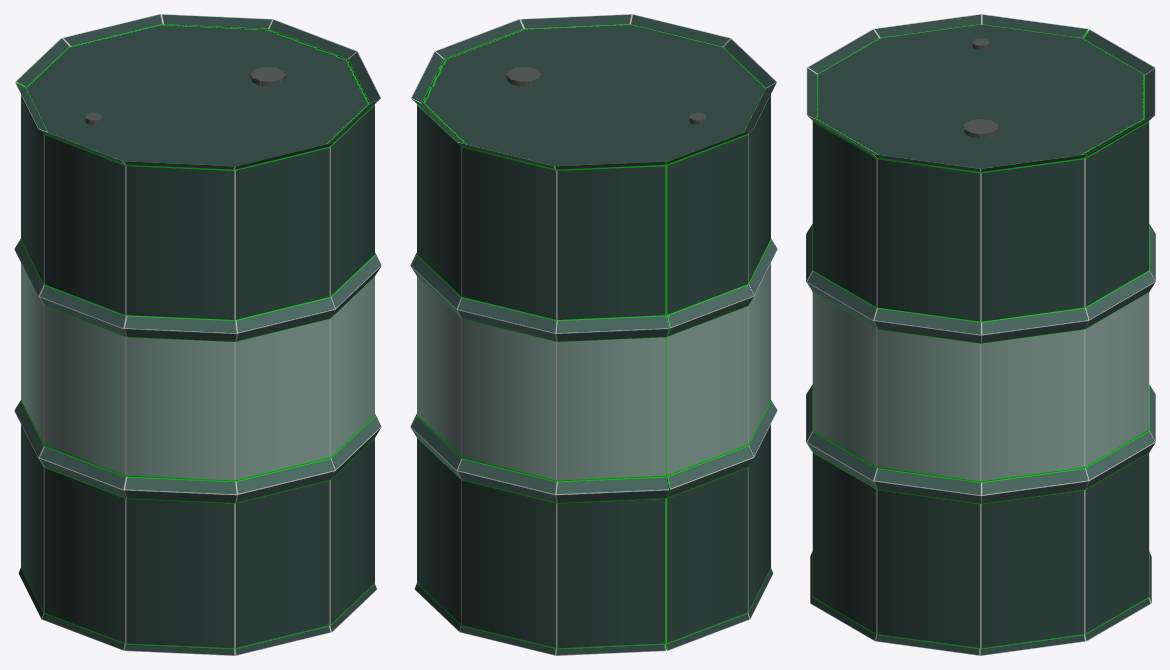
File: Barril.fbx
3 renders of one model, left to right at view 1: azimuth 30°, elevation 25°; view 2: azimuth 150°, elevation 25°; view 3: azimuth 270°, elevation 25°, orthographic.
Visible parts, largest first — view 1: Barrel, BigDetail; view 2: Barrel, BigDetail; view 3: Barrel, BigDetail.
Boxes of the visible parts, box(x1,y1,x2,y2) form: Barrel: box(14, 14, 381, 655); BigDetail: box(250, 67, 285, 86); Barrel: box(410, 14, 777, 655); BigDetail: box(506, 67, 541, 86); Barrel: box(806, 14, 1155, 655); BigDetail: box(964, 119, 997, 138).
Size of the model in its own units: 20.75 by 30.43 by 19.74.
